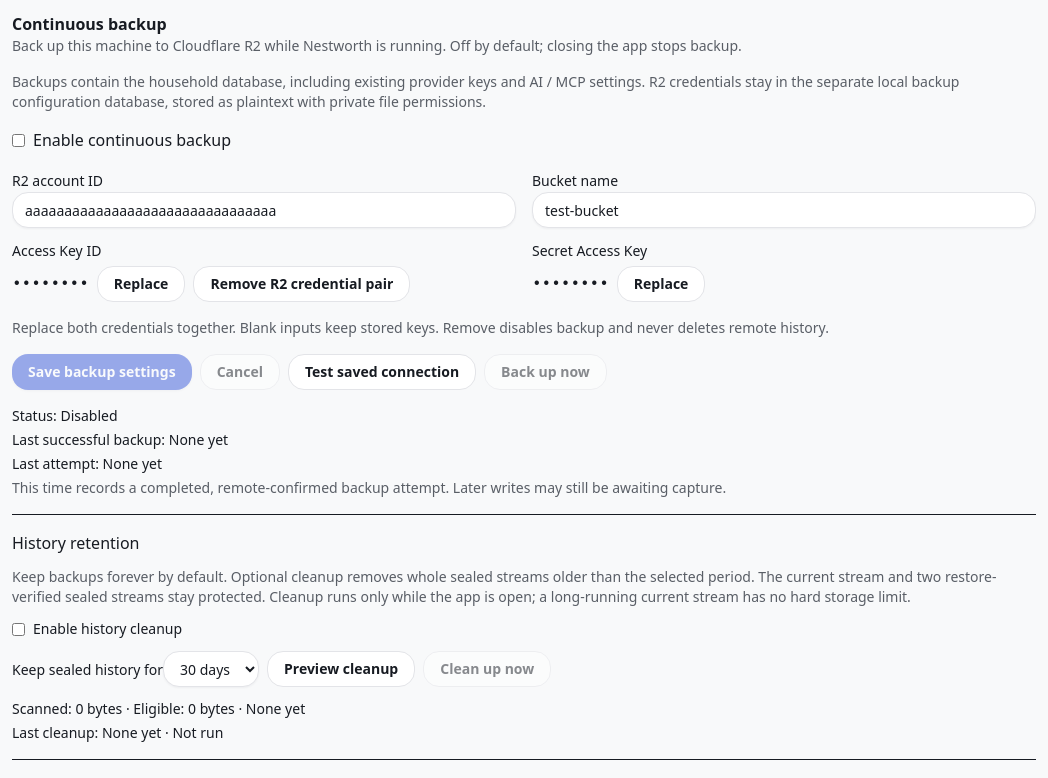
Test: continuous backup settings › does not turn a connection test into a successful backup
What coordinates should you click on to do the following:
click the button "Test saved connection"
I would click on:
 (382, 372)
Its box is [288, 354, 476, 390].
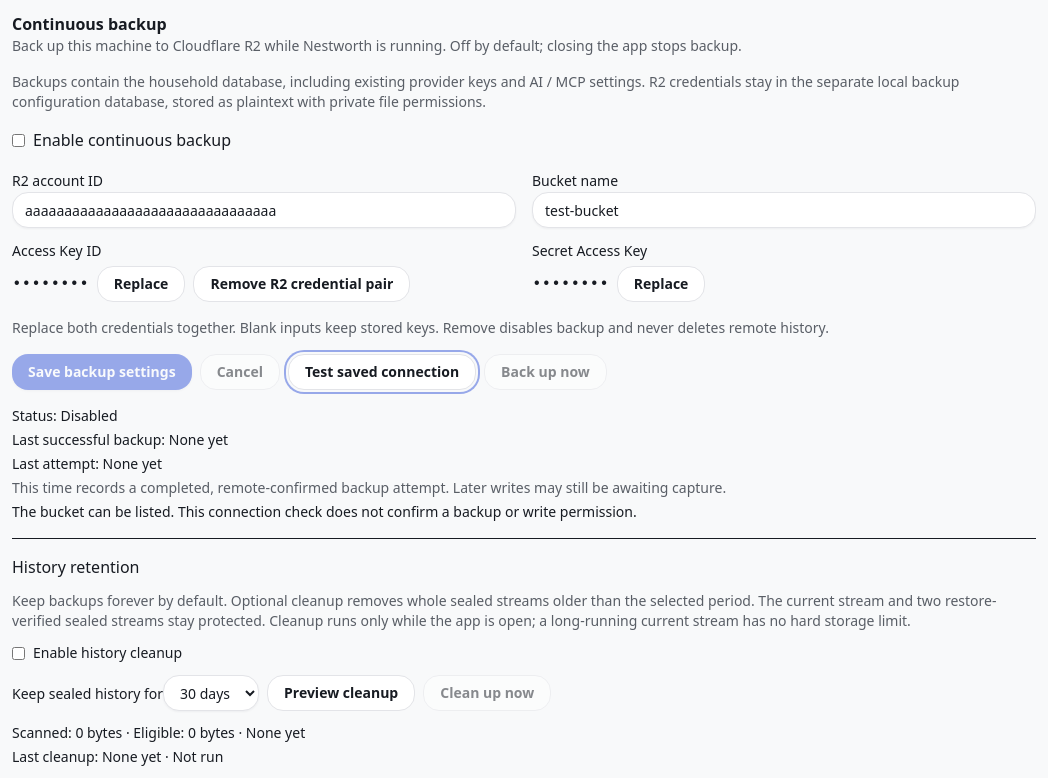
Expected: the text "Last successful backup: None yet" is shown, [12, 430, 228, 449]
Expected: the text "The bucket can be listed" is shown, [12, 502, 637, 521]
